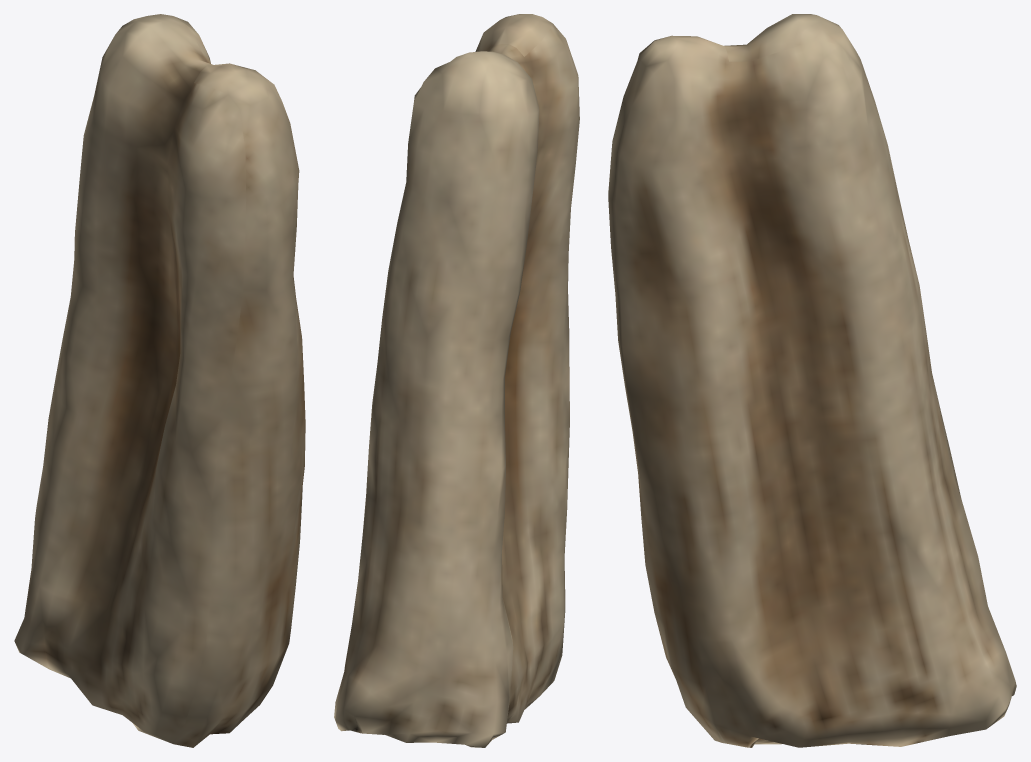
File: Maxilary_Premolar.glb
3 renders of one model, left to right at view 1: azimuth 30°, elevation 25°; view 2: azimuth 150°, elevation 25°; view 3: azimuth 270°, elevation 25°, orthographic. The views are drawn at different scales.
Visible parts, largest first — view 1: Mesh.072; view 2: Mesh.072; view 3: Mesh.072.
Part boxes in pixels (bbox=[...]): Mesh.072: bbox=[14, 14, 305, 747]; Mesh.072: bbox=[334, 14, 579, 747]; Mesh.072: bbox=[608, 14, 1016, 747].
Bounding box in the file's own units: 0.0207 × 0.0762 × 0.0392.
1 material, 1 textured.
